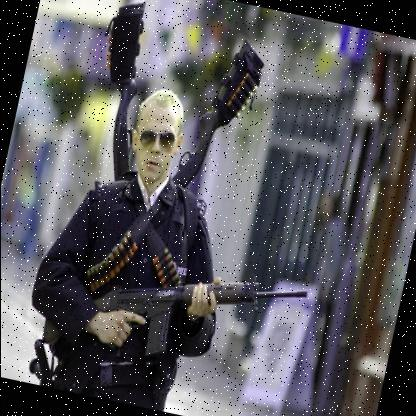rifle: (77, 241, 311, 392)
